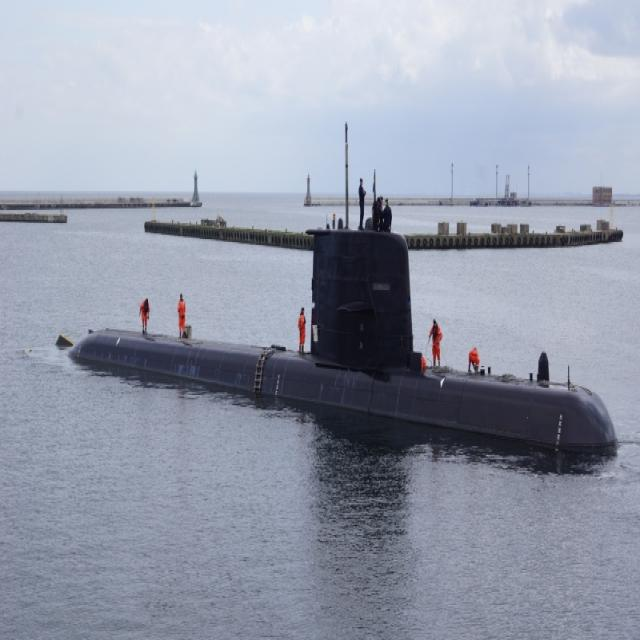submarine: (47, 230, 619, 459)
